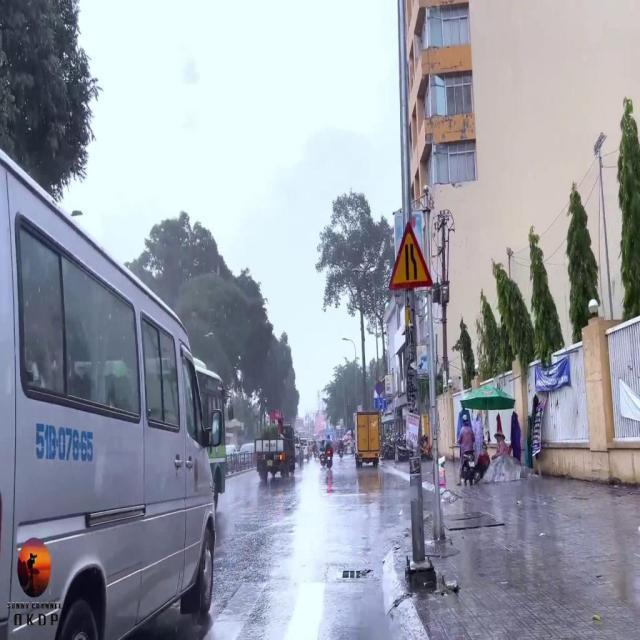203-duong-bi-hep: (387, 223, 435, 291)
